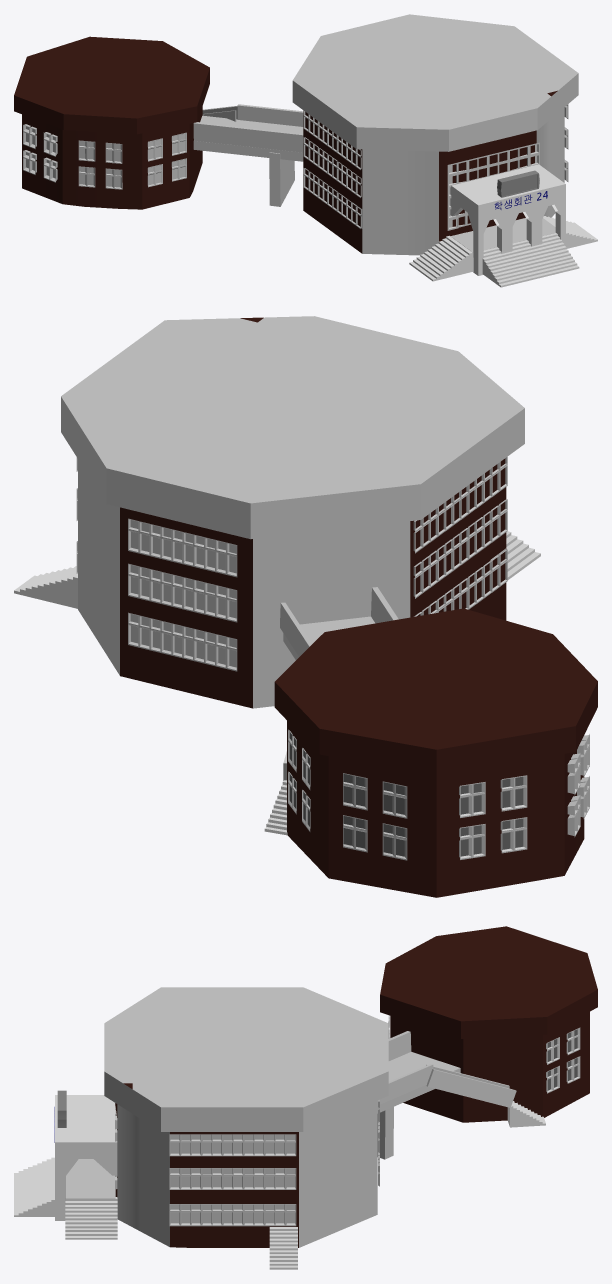
File: 학생회관 모델링.fbx
3 views of the same model, one above another, from view 1: azimuth 30°, elevation 25°; view 2: azimuth 150°, elevation 25°; view 3: azimuth 270°, elevation 25° (orthographic). The views are drawn at different scales.
Parts seen in each view (by area): view 1: pCube15, pPlane14, StraightStair001, Box001, pCube17, StraightStair002, pCube11, Box003, pasted__pasted__pPlane645, Box002, pasted__pasted__pPlane741, pasted__pasted__pPlane736 (+7 smaller); view 2: pCube15, pPlane14, pCube15_f_194_, pasted__pasted__pPlane743, pasted__pasted__pPlane742, pasted__pasted__pPlane737, StraightStair004, pasted__pasted__pPlane727, pCube11, StraightStair002, pCube18; view 3: pCube15, pPlane14, pasted__pasted__pPlane691, Box003, StraightStair003, StraightStair001, pCube19, pCube6, pCube11, pasted__pasted__pPlane727, StraightStair004, pCube18 (+5 smaller).
Boxes of the visible parts, x1,y1,x2,y2 form: pCube15: [292, 14, 578, 255]; pPlane14: [14, 36, 209, 209]; StraightStair001: [482, 233, 579, 287]; Box001: [450, 178, 507, 275]; pCube17: [193, 122, 303, 152]; StraightStair002: [409, 235, 472, 281]; pCube11: [193, 115, 303, 161]; Box003: [510, 164, 565, 246]; pasted__pasted__pPlane645: [447, 142, 539, 230]; Box002: [480, 171, 536, 252]; pasted__pasted__pPlane741: [78, 140, 122, 189]; pasted__pasted__pPlane736: [147, 132, 186, 187]; pCube15: [61, 316, 524, 708]; pPlane14: [274, 608, 597, 897]; pCube15_f_194_: [128, 518, 237, 671]; pasted__pasted__pPlane743: [459, 775, 527, 859]; pasted__pasted__pPlane742: [343, 773, 407, 860]; pasted__pasted__pPlane737: [567, 734, 589, 837]; StraightStair004: [14, 566, 77, 608]; pasted__pasted__pPlane727: [288, 729, 310, 831]; pCube11: [283, 616, 375, 659]; StraightStair002: [506, 531, 540, 579]; pCube18: [280, 602, 312, 656]; pCube15: [104, 987, 388, 1247]; pPlane14: [380, 926, 597, 1122]; pasted__pasted__pPlane691: [169, 1134, 296, 1226]; Box003: [55, 1126, 117, 1220]; StraightStair003: [65, 1197, 117, 1239]; StraightStair001: [14, 1157, 54, 1216]; pCube19: [426, 1064, 516, 1107]; pCube6: [65, 1159, 115, 1203]; pCube11: [377, 1051, 460, 1113]; pasted__pasted__pPlane727: [546, 1027, 580, 1093]; StraightStair004: [269, 1227, 297, 1269]; pCube18: [377, 1064, 433, 1105].
Bounding box in the file's own units: 3.35 × 1.01 × 3.47.
